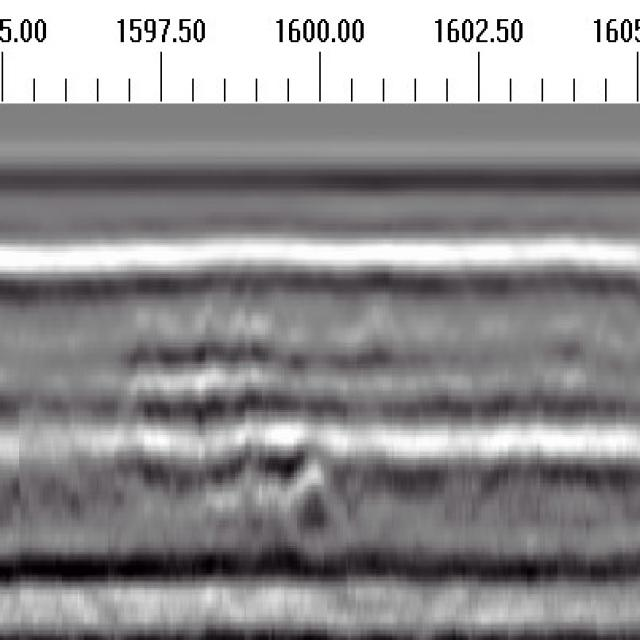loose: (130, 315, 331, 492)
